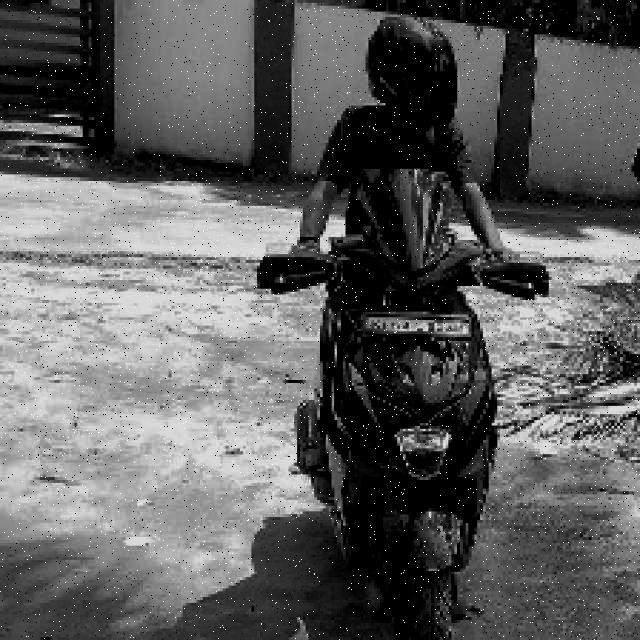Bike: (290, 199, 502, 622)
